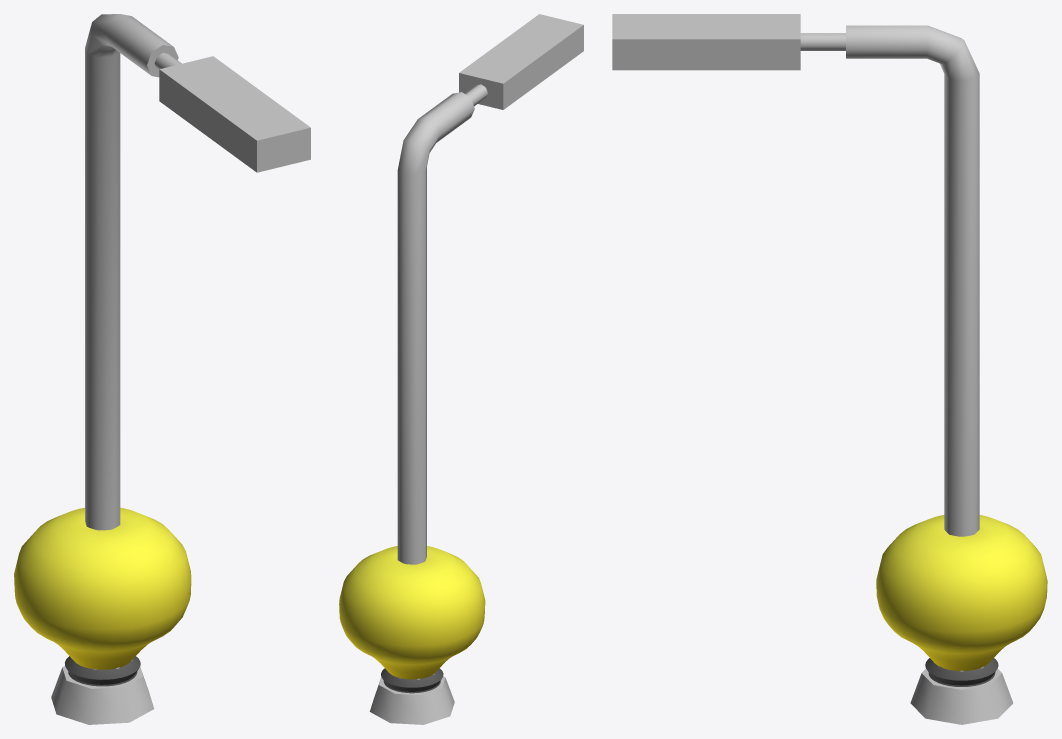
File: lights.fbx
The picture shows the model from 3 angles, left to right: view 1: azimuth 30°, elevation 25°; view 2: azimuth 150°, elevation 25°; view 3: azimuth 270°, elevation 25°; orthographic projection. The views are drawn at different scales.
Parts seen in each view (by area): view 1: lightpole, lightbolb; view 2: lightpole, lightbolb; view 3: lightpole, lightbolb.
Part boxes in pixels (<box>): lightpole: <box>51,14,310,724</box>; lightbolb: <box>14,507,191,686</box>; lightpole: <box>369,14,583,724</box>; lightbolb: <box>339,546,485,693</box>; lightpole: <box>612,14,1012,724</box>; lightbolb: <box>876,515,1047,686</box>.
Size of the model in its own units: 1.56 by 6.81 by 3.97.
